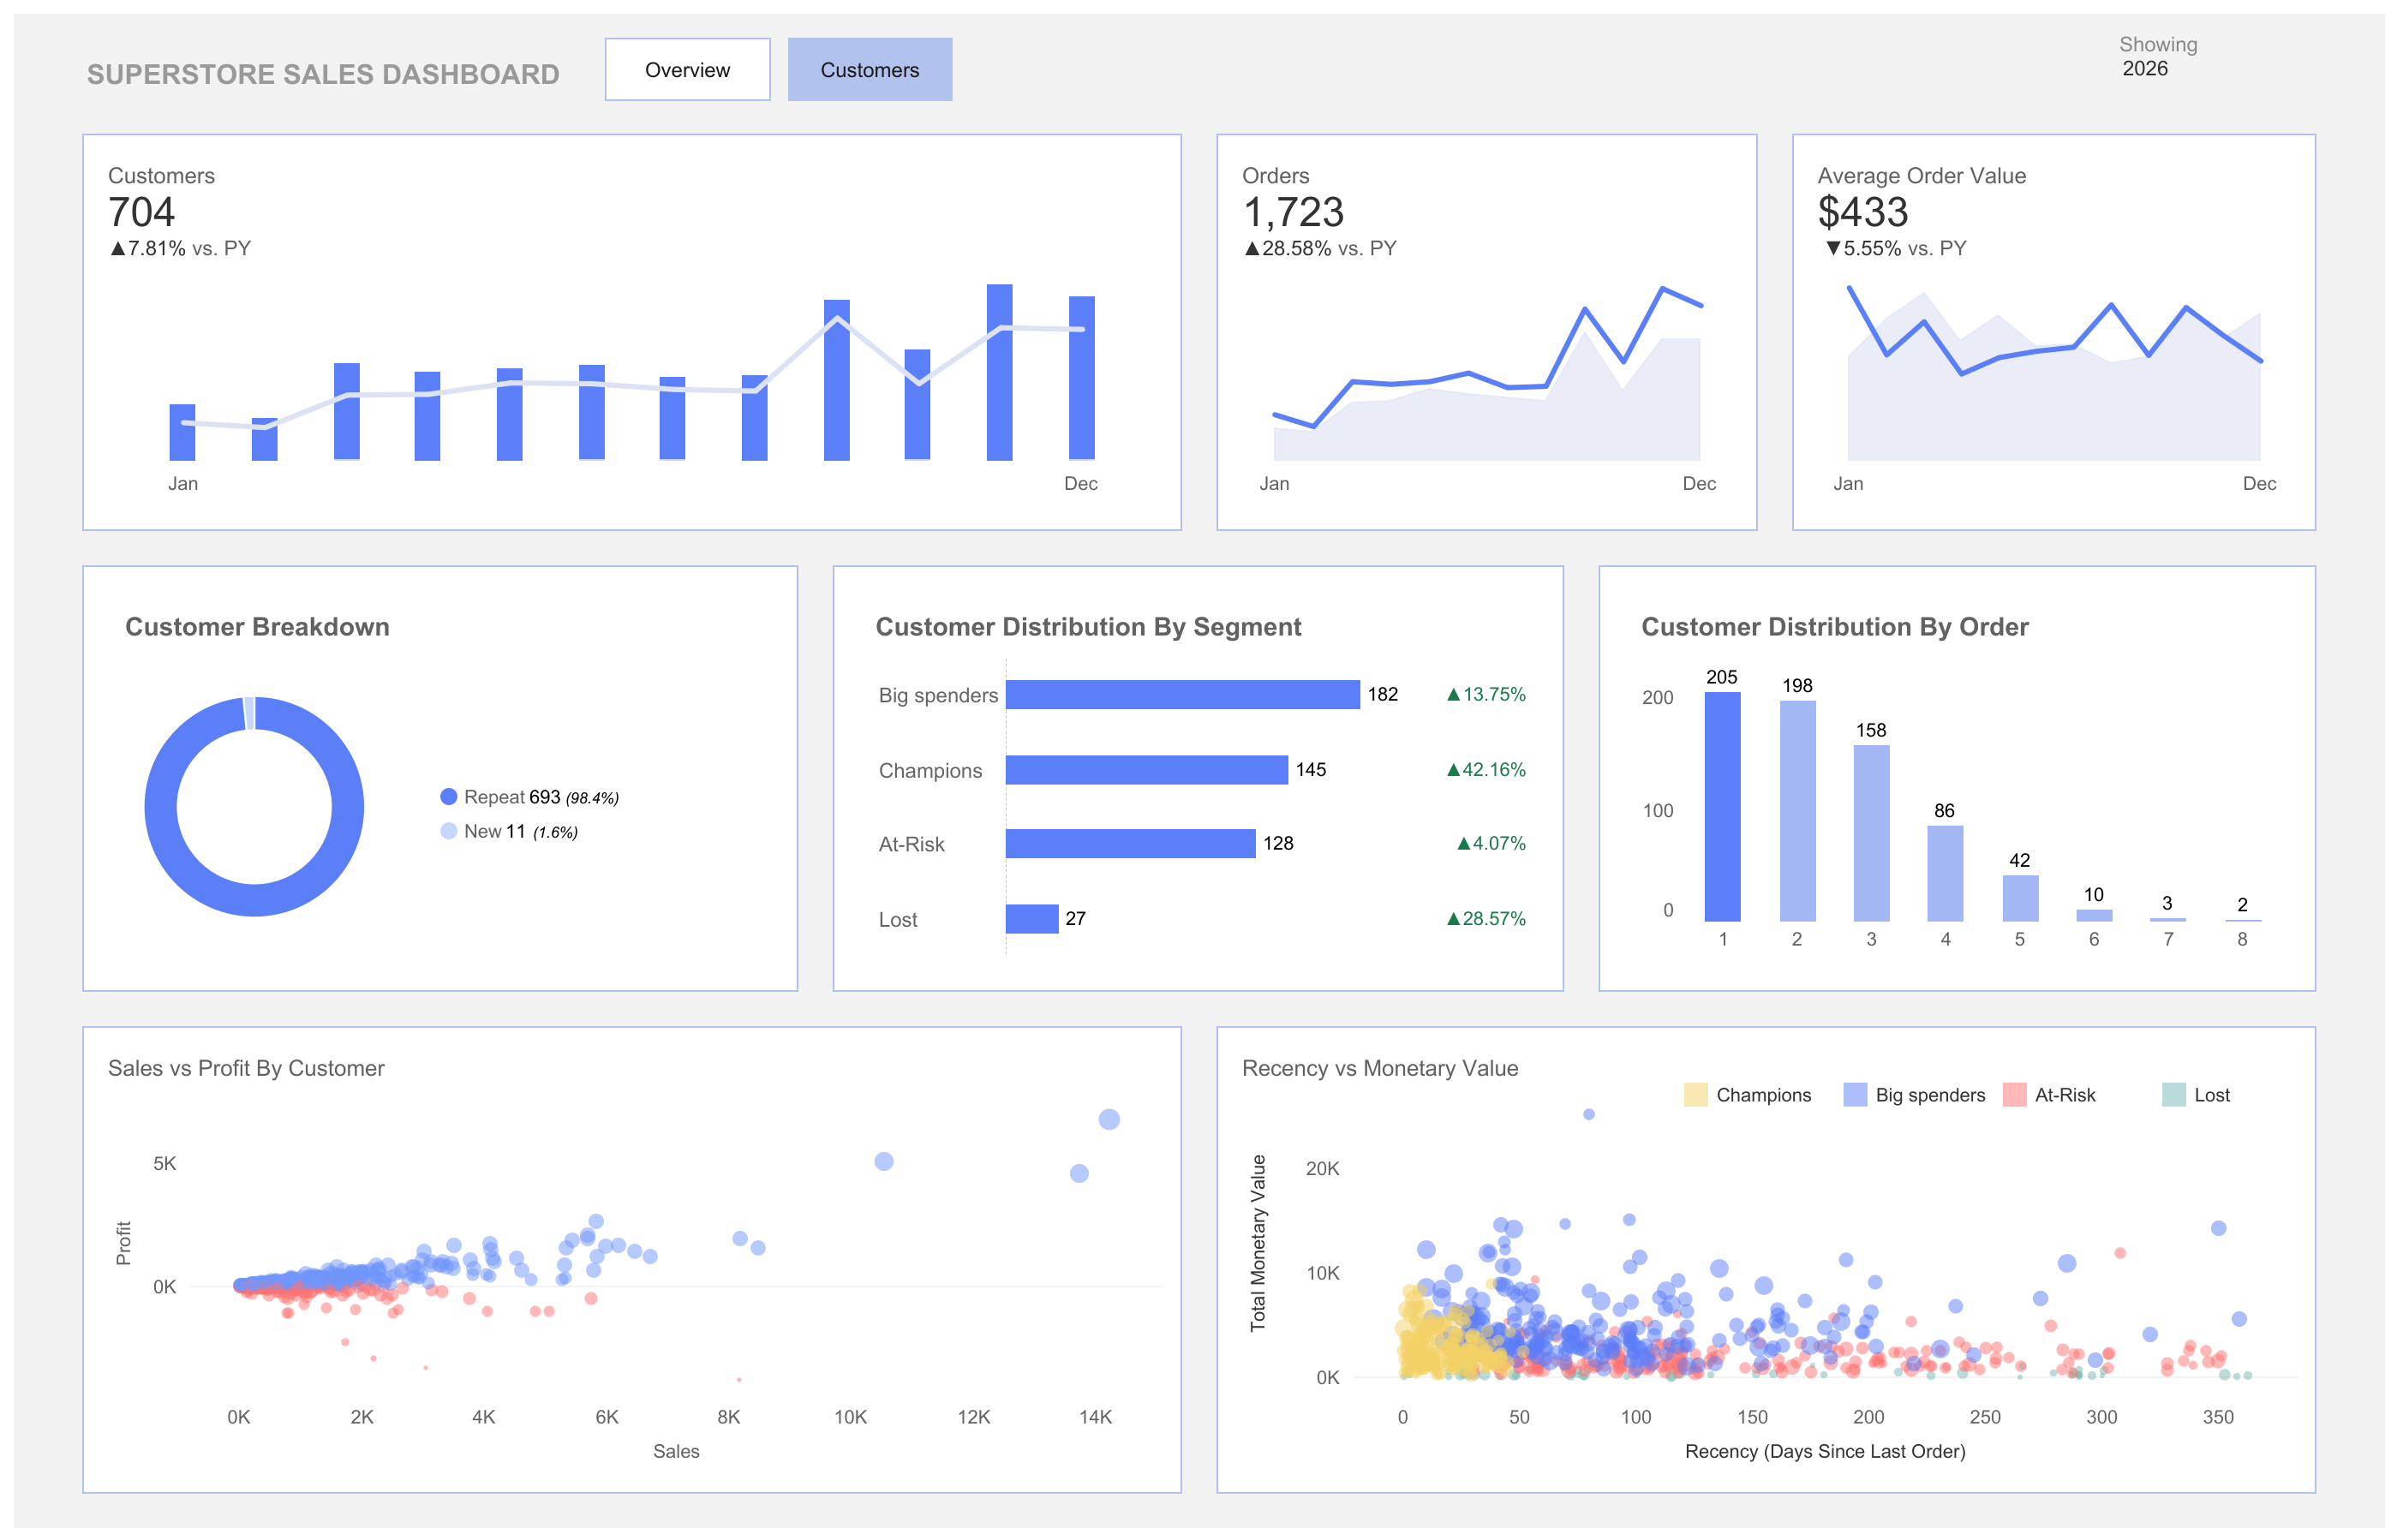

The dashboard page shown, as its layout file describes it:
{"tool":"tableau","page":{"name":"Customers","canvas":[1400,900],"ordinal":0},"visuals":[{"type":"text","box":[8,8,341.3,59.9]},{"type":"blank","box":[560.5,8,676.5,59.9]},{"type":"parameter","param":"[Parameters].[Parameter 1]","box":[1237,8,155,59.9]},{"type":"dashboard-object","box":[353,12,102,52]},{"type":"dashboard-object","box":[455,12,101,52]},{"type":"worksheet","title":"KPI Customers","mark":"Bar","rows":["CY Profit (copy)_0364152757174272","CY Customers (copy)_0364152757612546"],"cols":["Order Date"],"box":[8,67.9,692,251.9]},{"type":"worksheet","title":"KPI Orders","mark":"Bar","rows":["CY Orders (copy)_0364152757825539","CY Customers (copy)_0364152757362689"],"cols":["Order Date"],"box":[700,67.9,346,251.9]},{"type":"worksheet","title":"KPI AOV","mark":"Bar","rows":["CY Sales per Order (copy)_0364152776859674","CY Orders (copy)_0364152775700505"],"cols":["Order Date"],"box":[1046,67.9,346,251.9]},{"type":"worksheet","title":"Customer Breakdown","mark":"Pie","cols":["Calculation_0085629628973074","Calculation_2658096074391553"],"box":[8,319.8,458,269.2]},{"type":"worksheet","title":"Customer Distribution By Segment","mark":"Bar","rows":["Segment"],"cols":["CY Profit (copy)_0364152757174272","Calculation_2447882865836083"],"box":[466,319.8,467,269.2]},{"type":"worksheet","title":"Customer Distribution By Order","mark":"Automatic","rows":["CY Profit (copy)_0364152757174272"],"cols":["Calculation_0364152809992227"],"box":[933,319.8,459,269.2]},{"type":"worksheet","title":"Segment Color Legend","mark":"Circle","rows":["Calculation_2447882827141141"],"cols":["Calculation_0085629628289041"],"box":[250,455,162,53]},{"type":"worksheet","title":"Sales vs Profit By Customer","mark":"Circle","rows":["CY Sales (copy)_0256805487165450"],"cols":["Calculation_0256805465968641"],"box":[8,589,692,303]},{"type":"worksheet","title":"Recency vs Monetary Value","mark":"Circle","rows":["CY Recency (copy)_2510280177807362"],"cols":["PY Sales (copy)_2510280177508353"],"box":[700,589,692,303]},{"type":"legend","title":"Recency vs Monetary Value","param":"[federated.1nr9bwy05jmnkt10usw9h11sf5fa].[none:Segment:nk]","box":[980,629,390,41]}]}

Visuals, with their boxes in screenshot pixels (x1, y1, x2, y2), scaled from the page's 1400x900 canvas onto the 2397x1540 screenshot:
text: {"left": 14, "top": 14, "right": 598, "bottom": 116}
blank: {"left": 959, "top": 14, "right": 2118, "bottom": 116}
parameter: {"left": 2118, "top": 14, "right": 2383, "bottom": 116}
dashboard-object: {"left": 604, "top": 21, "right": 779, "bottom": 110}
dashboard-object: {"left": 779, "top": 21, "right": 952, "bottom": 110}
"KPI Customers" worksheet (Bar marks): {"left": 14, "top": 116, "right": 1198, "bottom": 547}
"KPI Orders" worksheet (Bar marks): {"left": 1198, "top": 116, "right": 1791, "bottom": 547}
"KPI AOV" worksheet (Bar marks): {"left": 1791, "top": 116, "right": 2383, "bottom": 547}
"Customer Breakdown" worksheet (Pie marks): {"left": 14, "top": 547, "right": 798, "bottom": 1008}
"Customer Distribution By Segment" worksheet (Bar marks): {"left": 798, "top": 547, "right": 1598, "bottom": 1008}
"Customer Distribution By Order" worksheet: {"left": 1598, "top": 547, "right": 2383, "bottom": 1008}
"Segment Color Legend" worksheet (Circle marks): {"left": 428, "top": 779, "right": 705, "bottom": 869}
"Sales vs Profit By Customer" worksheet (Circle marks): {"left": 14, "top": 1008, "right": 1198, "bottom": 1526}
"Recency vs Monetary Value" worksheet (Circle marks): {"left": 1198, "top": 1008, "right": 2383, "bottom": 1526}
"Recency vs Monetary Value" legend: {"left": 1678, "top": 1077, "right": 2346, "bottom": 1147}
